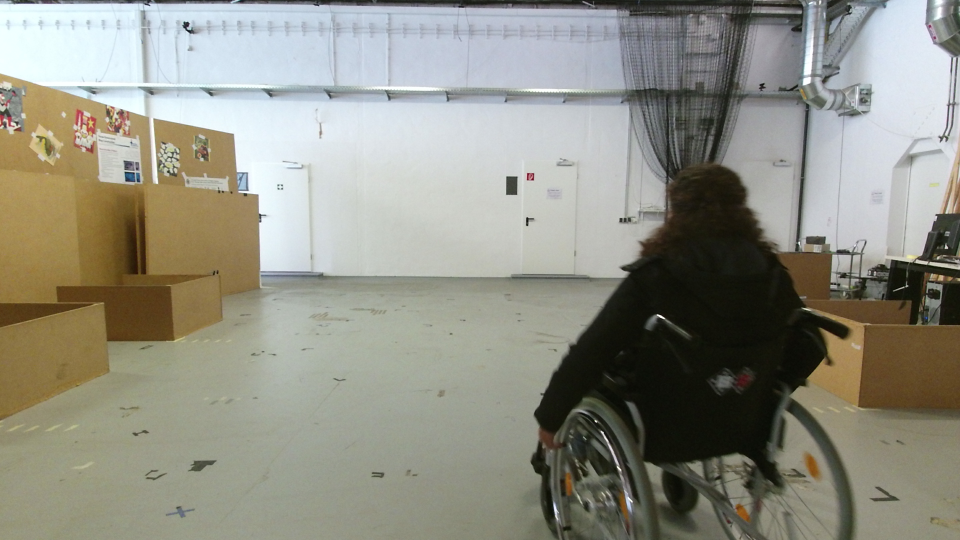wheelchair: (510, 156, 866, 540)
